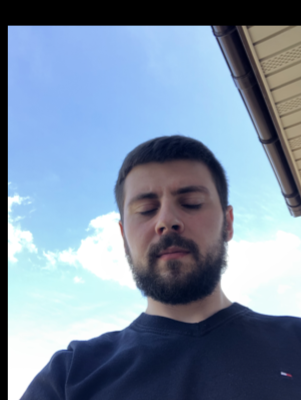without_mask: (125, 176, 223, 304)
